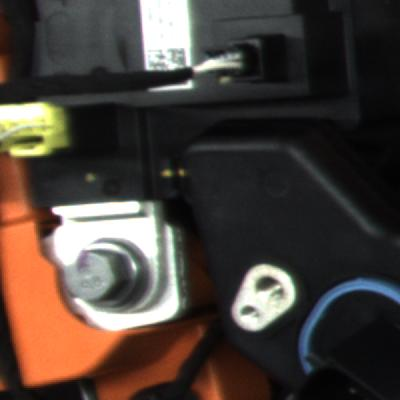nut_b: (48, 223, 162, 329)
